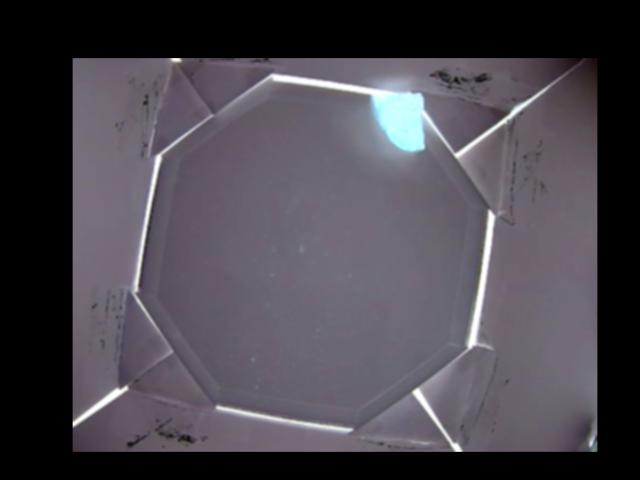Brisk: (370, 91, 428, 150)
